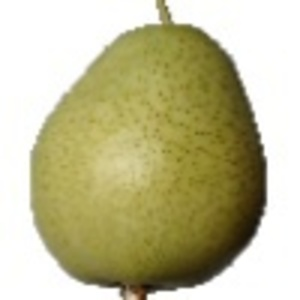pera: (16, 1, 268, 300)
